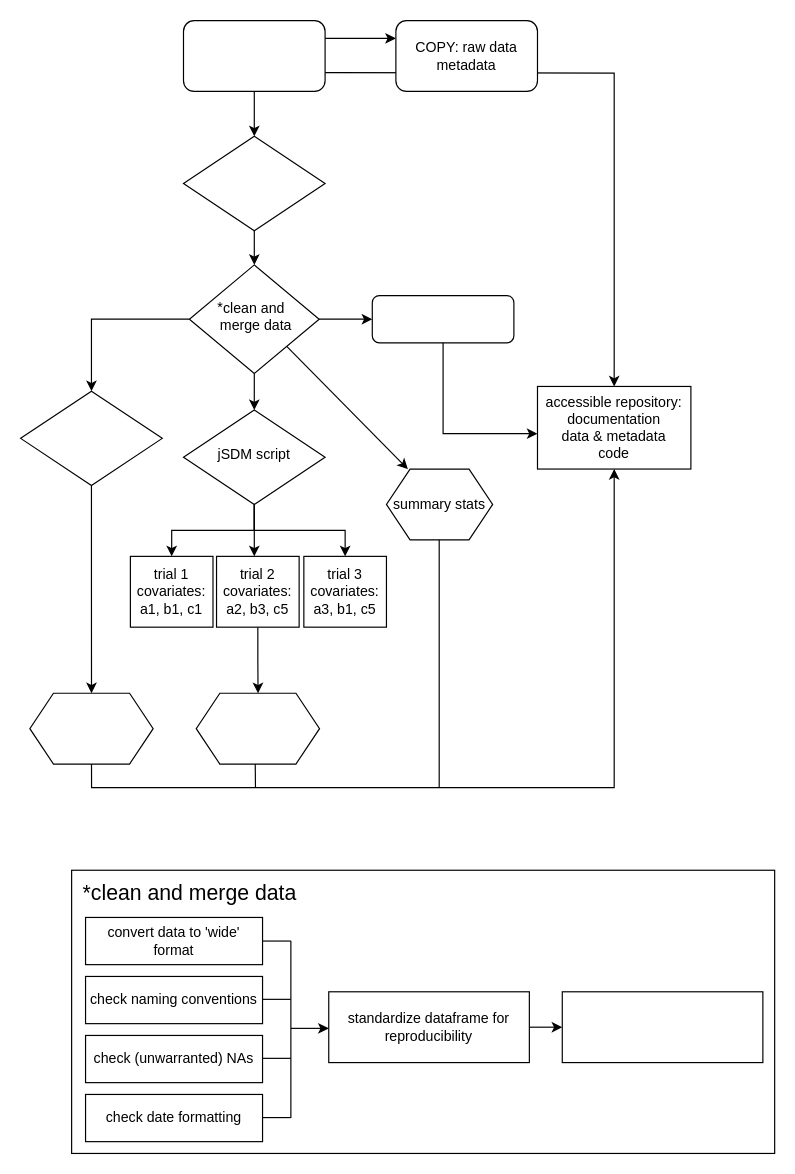
Some shapes in this 795 by 1174 pixel diagram are drawn without their labels. The box of each missing label's shape, as (x1, y1, x2, y2) in pixels:
COPY: clean data: (371, 294, 514, 343)
figures & tables script: (19, 390, 162, 486)
final figures & tables script: (29, 692, 153, 764)
final jSDM script: (195, 692, 320, 764)
import data to R: (182, 135, 325, 231)
raw enviro data raw audio data metadata: (182, 19, 325, 91)
run sample stats to assess assumptions and identify outliers: (561, 991, 763, 1063)
